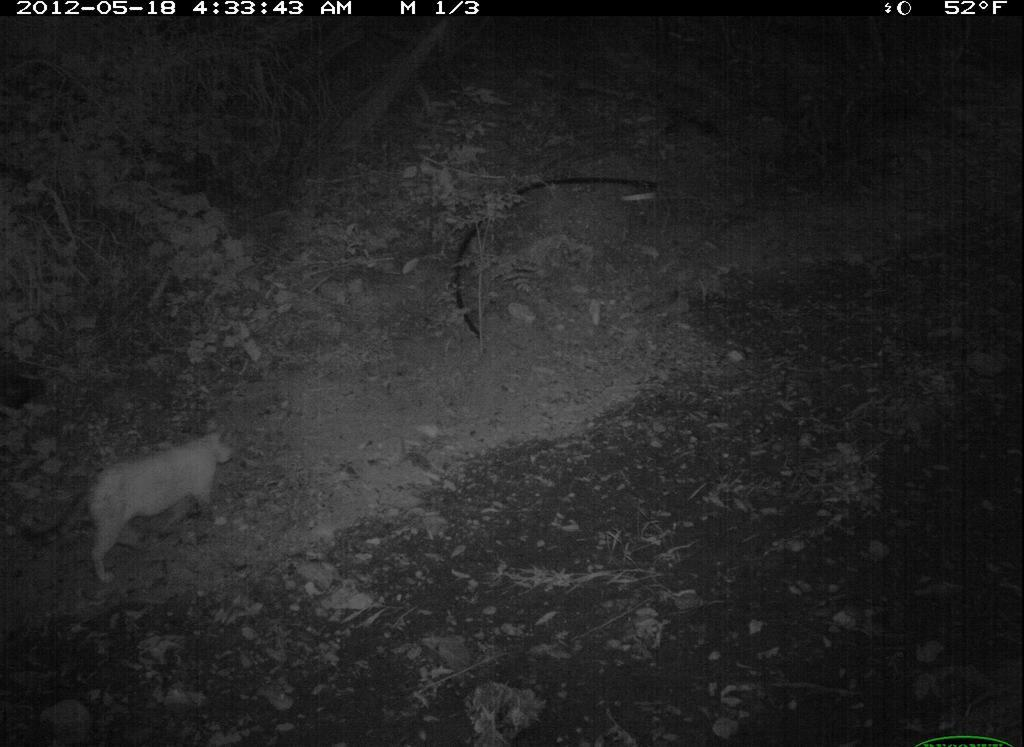cat: (21, 405, 282, 588)
